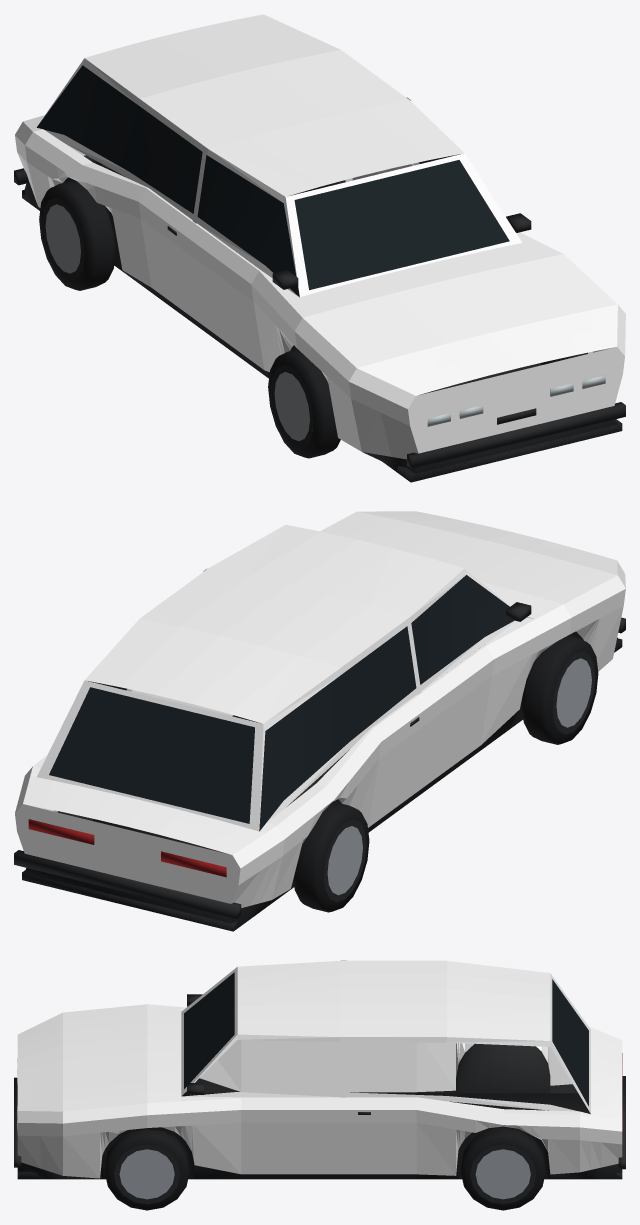
Rendered from saulieu_nacara.glb.
3 views of the same model, one above another, from view 1: azimuth 30°, elevation 25°; view 2: azimuth 150°, elevation 25°; view 3: azimuth 270°, elevation 25° (orthographic). The views are drawn at different scales.
Parts seen in each view (by area): view 1: Body_Paint, Body_Details, Mount_RearLeft_Wheel_Details, Mount_FrontLeft_Wheel_Details; view 2: Body_Paint, Body_Details, Mount_FrontLeft_Wheel_Details, Mount_RearLeft_Wheel_Details; view 3: Body_Paint, Body_Details, Mount_RearRight_Wheel_Details, Mount_FrontRight_Wheel_Details.
Boxes of the visible parts, bbox=[...] form: Body_Paint: bbox=[15, 14, 625, 459]; Body_Details: bbox=[14, 65, 625, 482]; Mount_RearLeft_Wheel_Details: bbox=[39, 180, 115, 290]; Mount_FrontLeft_Wheel_Details: bbox=[268, 349, 340, 458]; Body_Paint: bbox=[15, 511, 625, 907]; Body_Details: bbox=[14, 575, 625, 931]; Mount_FrontLeft_Wheel_Details: bbox=[521, 635, 598, 744]; Mount_RearLeft_Wheel_Details: bbox=[293, 801, 369, 912]; Body_Paint: bbox=[17, 960, 622, 1178]; Body_Details: bbox=[14, 972, 625, 1179]; Mount_RearRight_Wheel_Details: bbox=[460, 1127, 545, 1210]; Mount_FrontRight_Wheel_Details: bbox=[104, 1129, 189, 1210].
Bounding box in the file's own units: 1.93 × 1.37 × 4.68.
2 materials, 1 textured.
